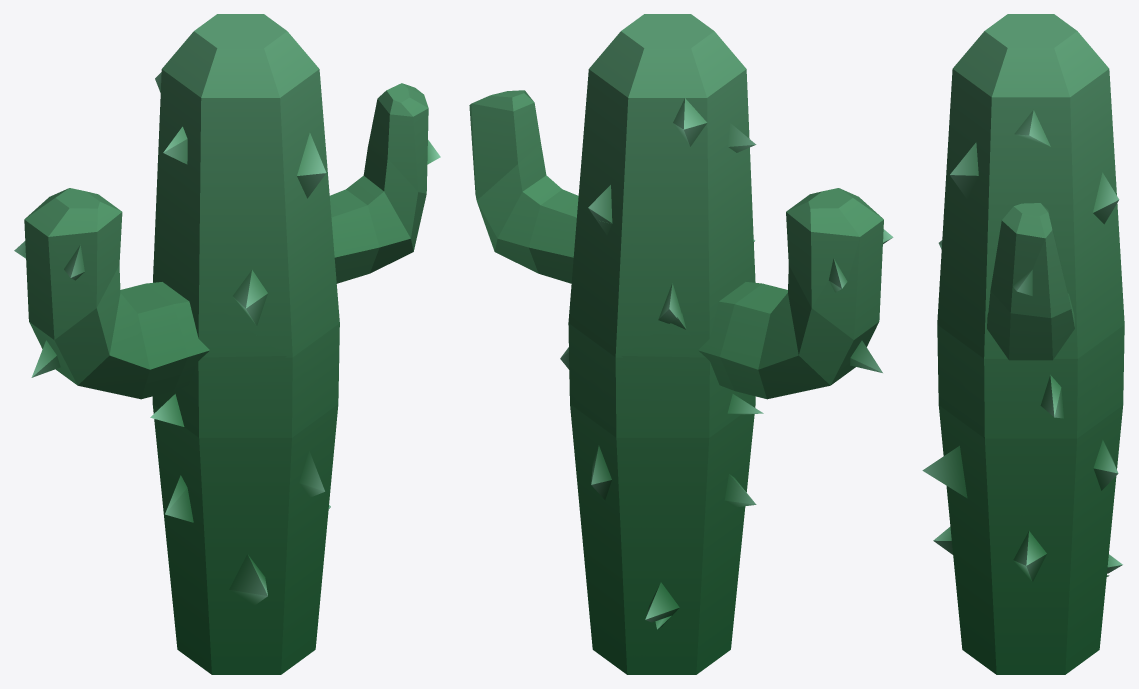
The model's file is Cactus.fbx.
3 renders of one model, left to right at view 1: azimuth 30°, elevation 25°; view 2: azimuth 150°, elevation 25°; view 3: azimuth 270°, elevation 25°, orthographic.
Visible parts, largest first — view 1: Cactus; view 2: Cactus; view 3: Cactus.
Boxes of the visible parts, x1,y1,x2,y2 form: Cactus: (14,14,440,674); Cactus: (469,14,893,674); Cactus: (922,14,1124,674).
Size of the model in its own units: 1.22 by 0.5323 by 1.79.
